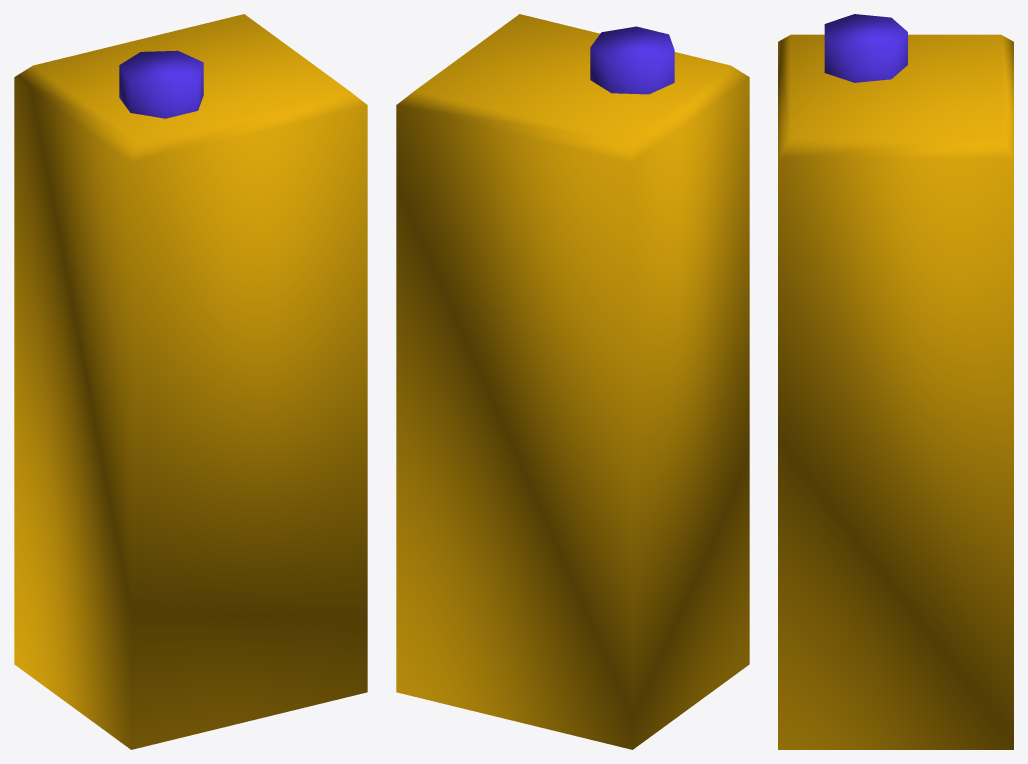
File: succo_ananas.fbx
3 views of the same model, side by side, from view 1: azimuth 30°, elevation 25°; view 2: azimuth 150°, elevation 25°; view 3: azimuth 270°, elevation 25° (orthographic).
Visible parts, largest first — view 1: ananas; view 2: ananas; view 3: ananas.
Part boxes in pixels (bbox=[...]): ananas: bbox=[14, 14, 367, 749]; ananas: bbox=[396, 14, 749, 749]; ananas: bbox=[778, 14, 1013, 749].
Size of the model in its own units: 82.46 by 211 by 70.7.
